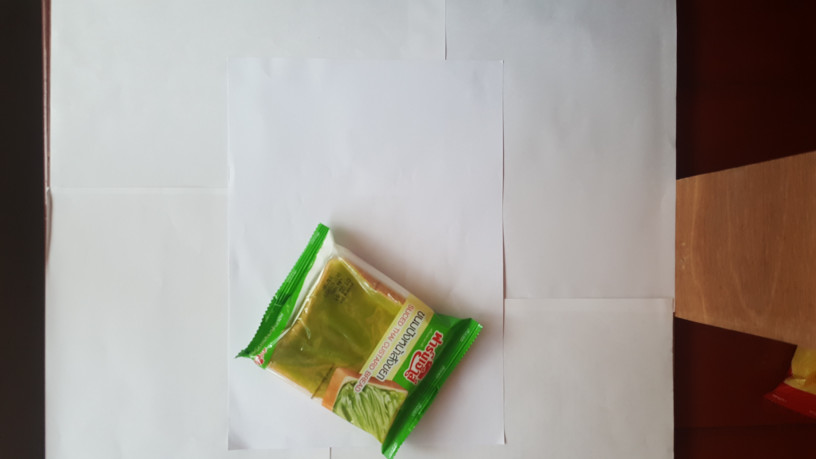farmhouse-bread-pandan: (230, 211, 484, 459)
